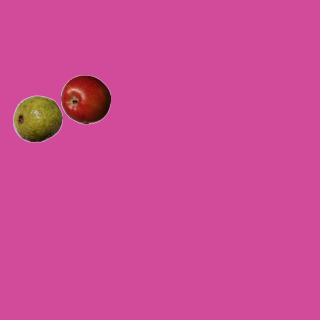Apple Braeburn: (60, 74, 110, 124)
Guava: (12, 93, 62, 143)
